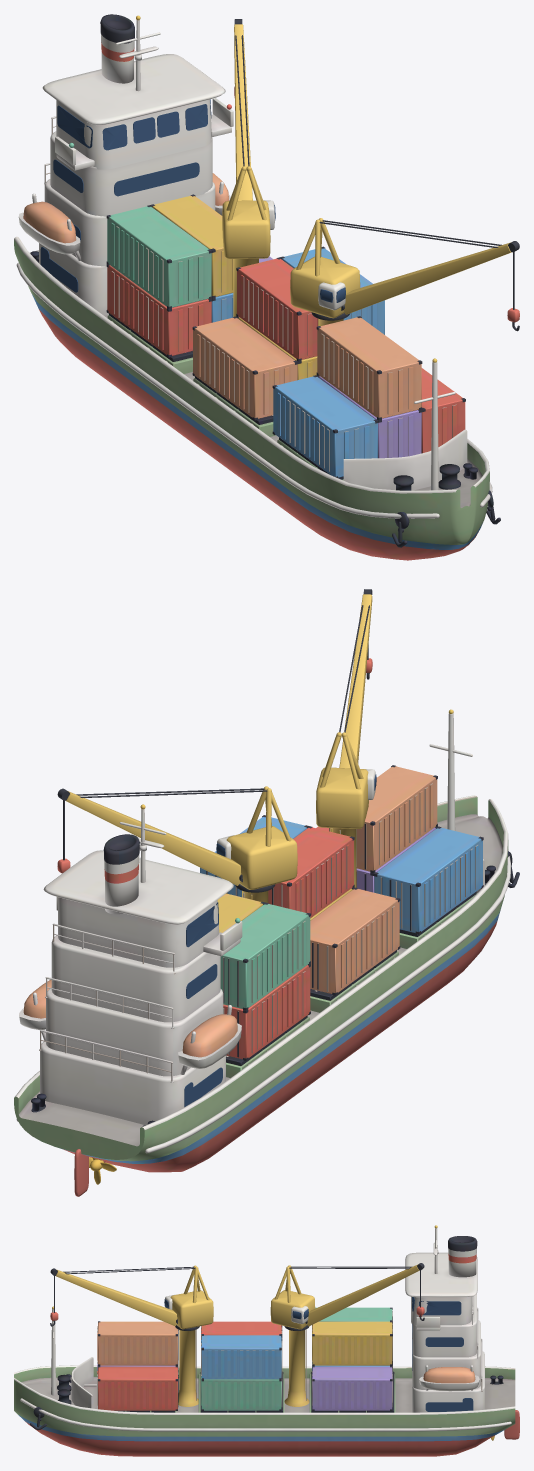
The model's file is cargo-ship.glb.
3 views of the same model, one above another, from view 1: azimuth 30°, elevation 25°; view 2: azimuth 150°, elevation 25°; view 3: azimuth 270°, elevation 25° (orthographic). The views are drawn at different scales.
Parts seen in each view (by area): view 1: cargo-ship_body, cargo-ship_crane_fore, cargo-ship_crane_aft, cargo-ship_windows; view 2: cargo-ship_body, cargo-ship_crane_aft, cargo-ship_crane_fore, cargo-ship_windows; view 3: cargo-ship_body, cargo-ship_crane_fore, cargo-ship_crane_aft, cargo-ship_windows, cargo-ship_rudder.
Boxes of the visible parts, left/top/right/bottom form: cargo-ship_body: left=14, top=14, right=500, bottom=560; cargo-ship_crane_fore: left=290, top=218, right=519, bottom=331; cargo-ship_crane_aft: left=222, top=19, right=275, bottom=258; cargo-ship_windows: left=40, top=99, right=211, bottom=292; cargo-ship_body: left=14, top=709, right=519, bottom=1172; cargo-ship_crane_aft: left=57, top=786, right=297, bottom=892; cargo-ship_crane_fore: left=316, top=589, right=376, bottom=828; cargo-ship_windows: left=184, top=902, right=222, bottom=1106; cargo-ship_body: left=14, top=1225, right=515, bottom=1456; cargo-ship_crane_fore: left=50, top=1265, right=213, bottom=1330; cargo-ship_crane_aft: left=270, top=1263, right=424, bottom=1330; cargo-ship_windows: left=412, top=1297, right=473, bottom=1411; cargo-ship_rudder: left=504, top=1410, right=519, bottom=1439.
Bounding box in the file's own units: 10.45 × 18.19 × 38.35.
Materials: 14 (1 with a texture image).
